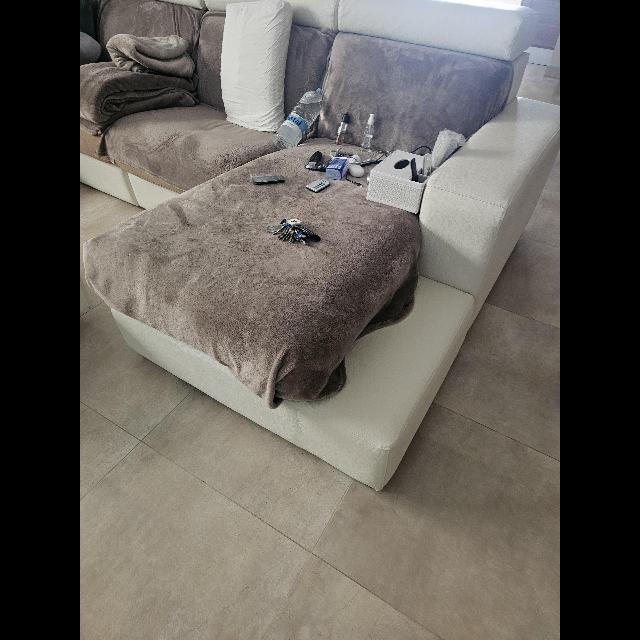Keys: (266, 218, 318, 245)
